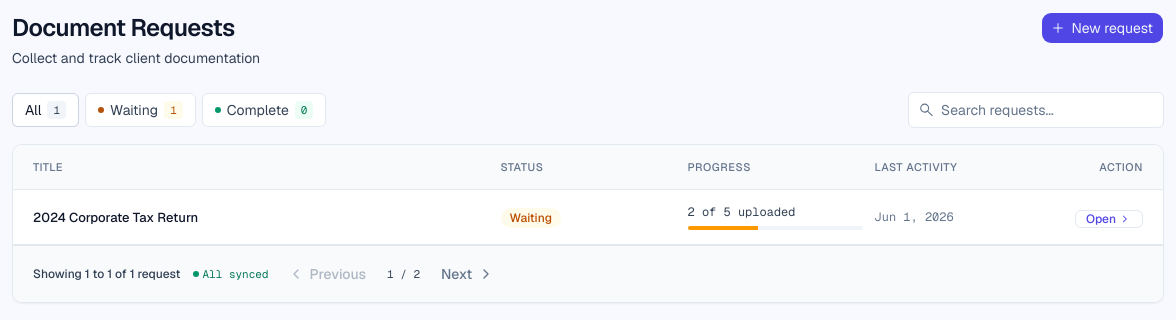
Test case: RequestsPage › pages forward with the cursor
This screenshot has width=1176, height=320.
Expected: the link "2024 Corporate Tax Return" is shown, 33,209 -> 198,226
Click the button "Next".
click(468, 274)  # box 441,265 -> 494,283
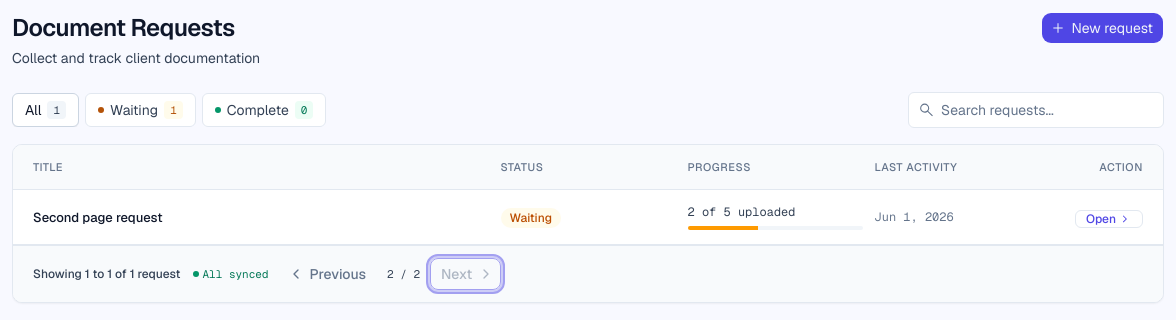
Result: the link "Second page request" is shown at 33,209 -> 162,226
